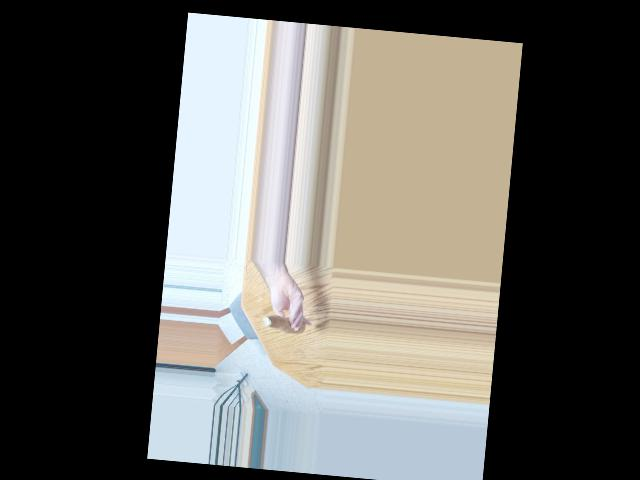sweet_potato: (262, 309, 301, 336)
